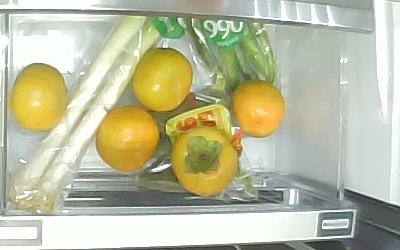persimmon: (171, 126, 238, 196), (96, 107, 160, 173), (132, 47, 193, 112), (11, 63, 68, 130), (230, 81, 285, 139)
